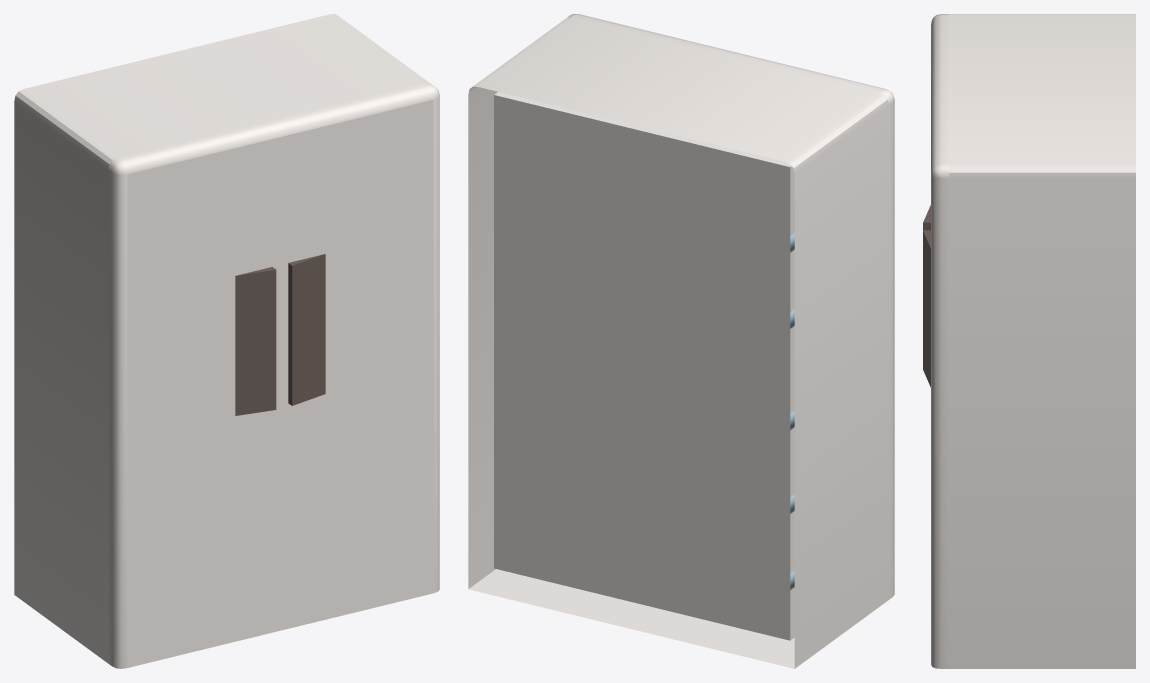
Rendered from Fridge.fbx.
3 renders of one model, left to right at view 1: azimuth 30°, elevation 25°; view 2: azimuth 150°, elevation 25°; view 3: azimuth 270°, elevation 25°, orthographic.
Visible parts, largest first — view 1: Left Door (×2), Fridge; view 2: Fridge, Left Door (×2); view 3: Fridge, Left Door (×2).
Part boxes in pixels (bbox=[...]): Left Door (×2): bbox=[108, 82, 439, 668]; Fridge: bbox=[14, 14, 428, 663]; Fridge: bbox=[468, 17, 888, 668]; Left Door (×2): bbox=[567, 14, 894, 599]; Fridge: bbox=[949, 14, 1135, 668]; Left Door (×2): bbox=[923, 14, 949, 668].
Bounding box in the file's own units: 100 × 57.02 × 148.
